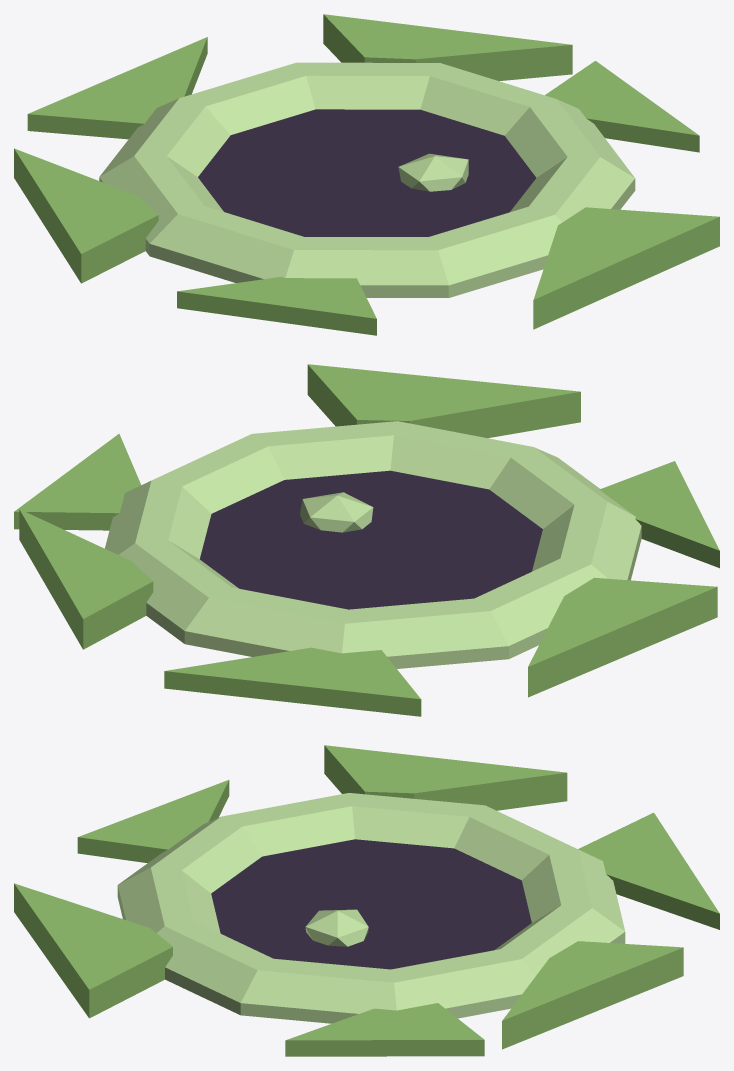
Rendered from crater-m-meadow.glb.
3 views of the same model, one above another, from view 1: azimuth 30°, elevation 25°; view 2: azimuth 150°, elevation 25°; view 3: azimuth 270°, elevation 25° (orthographic). The views are drawn at different scales.
Parts seen in each view (by area): view 1: crater-m-meadow; view 2: crater-m-meadow; view 3: crater-m-meadow.
Part boxes in pixels (left/top/right/bottom): crater-m-meadow: left=14, top=14, right=719, bottom=335; crater-m-meadow: left=14, top=364, right=719, bottom=716; crater-m-meadow: left=14, top=745, right=719, bottom=1056.
Bounding box in the file's own units: 1.48 × 0.1032 × 1.56.
